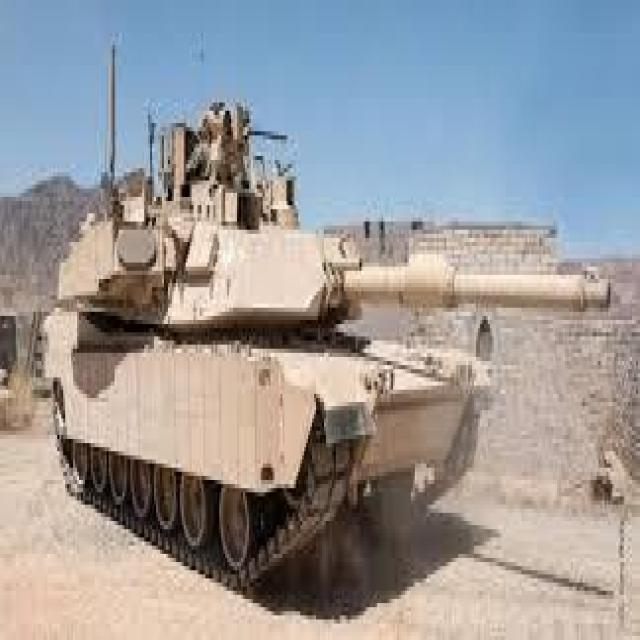Tanks: (9, 35, 623, 593)
